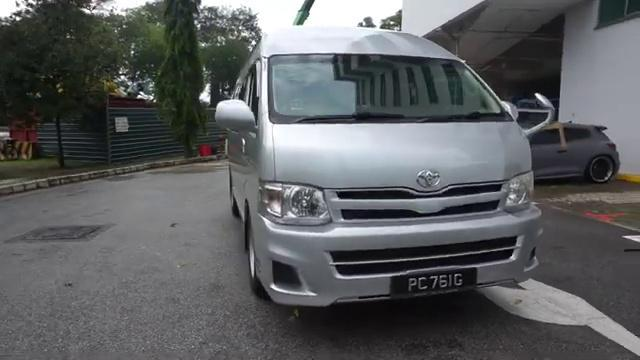van: (201, 7, 555, 312)
